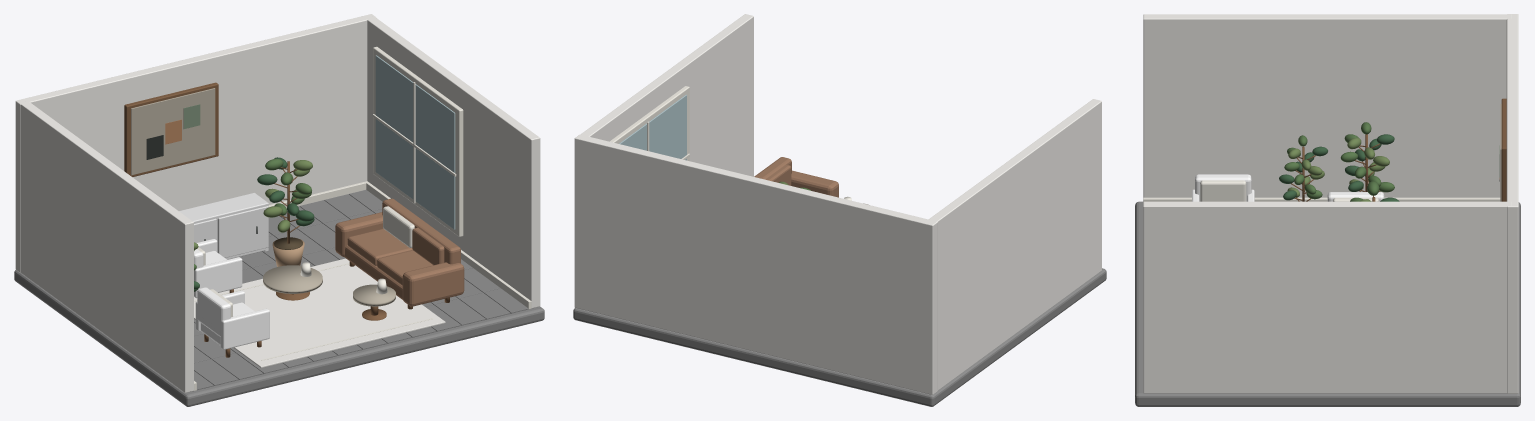
3 renders of one model, left to right at view 1: azimuth 30°, elevation 25°; view 2: azimuth 150°, elevation 25°; view 3: azimuth 270°, elevation 25°, orthographic. The views are drawn at different scales.
Parts seen in each view (by area): view 1: Wall back · closed surfaces, Wall left · closed surfaces, Floor · closed surfaces, Wall right · closed surfaces, window · closed surfaces, rug · closed surfaces, sofa · closed surfaces, picture · closed surfaces, cabinet · closed surfaces, armchair.001 · closed surfaces, plant · closed surfaces, armchair · closed surfaces (+2 smaller); view 2: Wall back · closed surfaces, Wall left · closed surfaces, Wall right · closed surfaces, Floor · closed surfaces, window · closed surfaces, sofa · closed surfaces; view 3: Wall right · closed surfaces, Wall left · closed surfaces, Floor · closed surfaces, Wall back · closed surfaces, plant.001 · closed surfaces, plant.002 · closed surfaces, armchair.001 · closed surfaces, picture · closed surfaces, armchair · closed surfaces.
Boxes of the visible parts, bbox=[...] form: Wall back · closed surfaces: bbox=[15, 14, 376, 272]; Wall left · closed surfaces: bbox=[20, 100, 196, 392]; Floor · closed surfaces: bbox=[14, 190, 544, 406]; Wall right · closed surfaces: bbox=[366, 16, 540, 309]; window · closed surfaces: bbox=[372, 46, 463, 236]; rug · closed surfaces: bbox=[194, 258, 445, 367]; sofa · closed surfaces: bbox=[335, 198, 464, 309]; picture · closed surfaces: bbox=[124, 82, 218, 176]; cabinet · closed surfaces: bbox=[179, 192, 268, 259]; armchair.001 · closed surfaces: bbox=[195, 287, 269, 357]; plant · closed surfaces: bbox=[257, 157, 314, 266]; armchair · closed surfaces: bbox=[194, 239, 242, 298]; Wall back · closed surfaces: bbox=[574, 134, 937, 394]; Wall left · closed surfaces: bbox=[927, 99, 1101, 390]; Wall right · closed surfaces: bbox=[579, 14, 753, 176]; Floor · closed surfaces: bbox=[573, 268, 1106, 406]; window · closed surfaces: bbox=[610, 86, 689, 160]; sofa · closed surfaces: bbox=[754, 157, 838, 197]; Wall right · closed surfaces: bbox=[1143, 201, 1511, 393]; Wall left · closed surfaces: bbox=[1143, 14, 1511, 201]; Floor · closed surfaces: bbox=[1135, 201, 1520, 406]; Wall back · closed surfaces: bbox=[1506, 14, 1518, 393]; plant.001 · closed surfaces: bbox=[1340, 122, 1394, 192]; plant.002 · closed surfaces: bbox=[1279, 135, 1327, 201]; armchair.001 · closed surfaces: bbox=[1192, 174, 1254, 201]; picture · closed surfaces: bbox=[1499, 98, 1506, 201]; armchair · closed surfaces: bbox=[1327, 192, 1384, 201].
Size of the model in its own units: 6.22 by 3 by 5.22.
